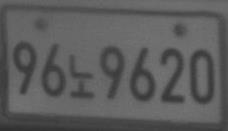0: (189, 49, 215, 104)
2: (160, 46, 185, 103)
6: (39, 43, 67, 97), (129, 47, 156, 102)
9: (98, 45, 125, 98), (12, 41, 36, 94)
노: (69, 54, 95, 97)
